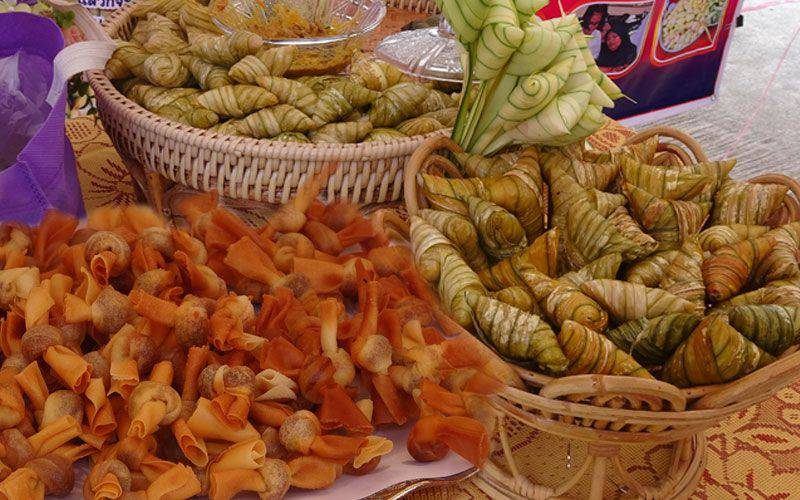kanomtom: (485, 139, 560, 242)
